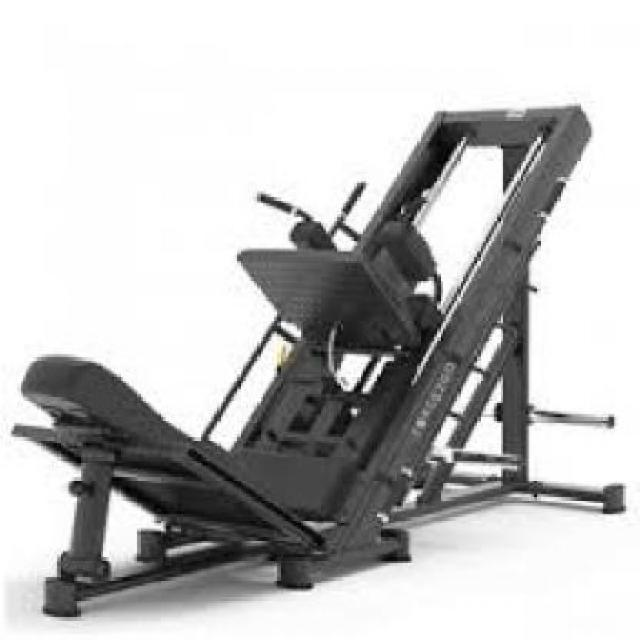leg press: (4, 66, 640, 620)
